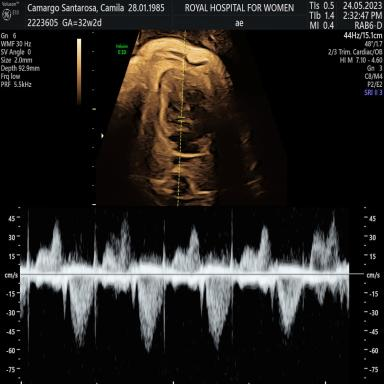Ultrasound-Waves: (28, 209, 349, 383)
